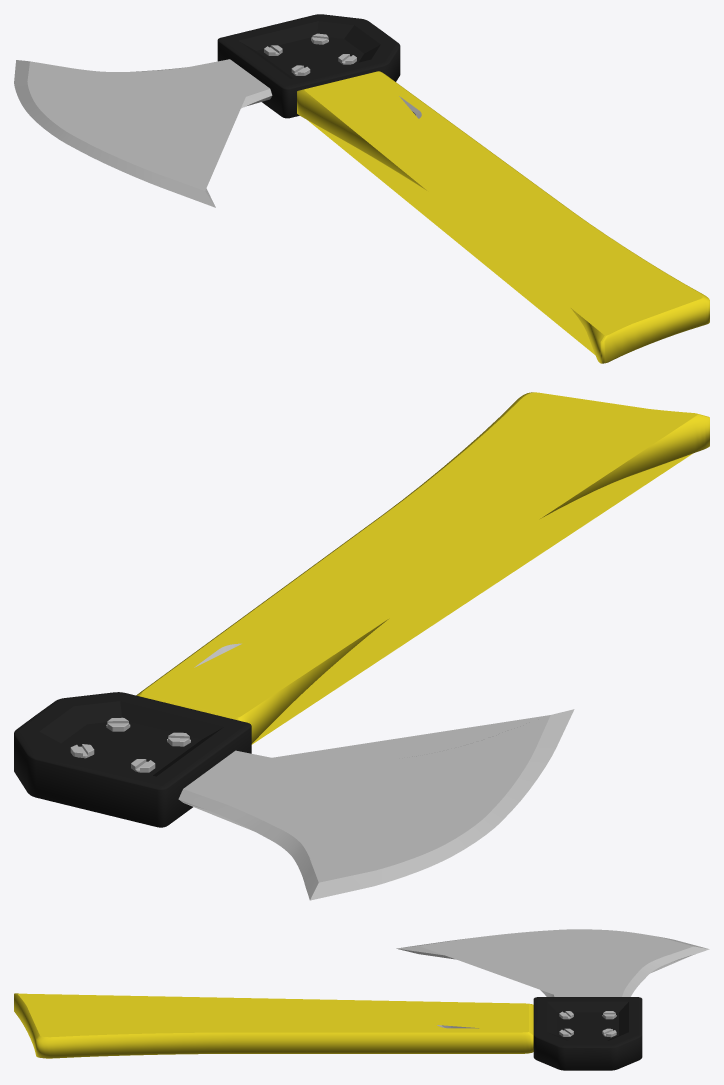
Rendered from axe.fbx.
3 views of the same model, one above another, from view 1: azimuth 30°, elevation 25°; view 2: azimuth 150°, elevation 25°; view 3: azimuth 270°, elevation 25° (orthographic). The views are drawn at different scales.
Visible parts, largest first — view 1: blade; view 2: blade; view 3: blade.
Part boxes in pixels (x1=…): blade: x1=14, y1=14, x2=709, y2=363; blade: x1=14, y1=392, x2=709, y2=900; blade: x1=14, y1=929, x2=709, y2=1070.
Size of the model in its own units: 781 by 69.37 by 1780.
